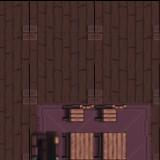Hide: (25, 128, 60, 160)
Obstacle: (60, 96, 96, 132), (92, 97, 128, 130), (59, 129, 95, 160), (94, 130, 128, 160)
